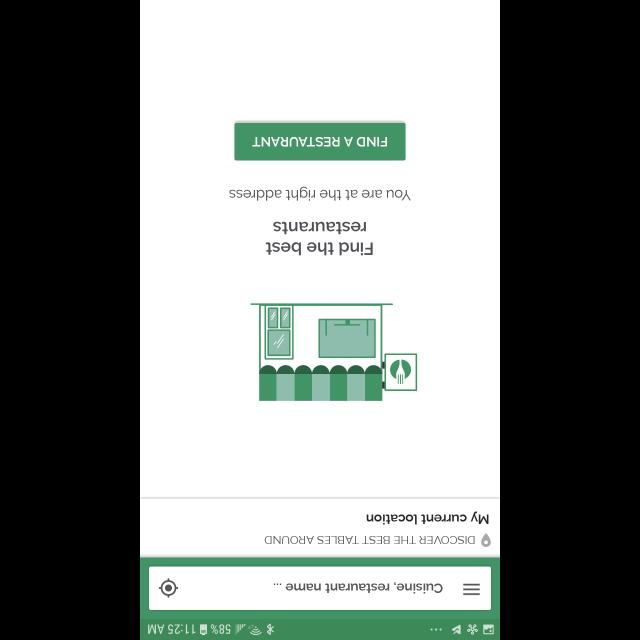icon: (158, 578, 178, 598), (462, 583, 480, 595), (481, 533, 491, 547)
image: (250, 303, 418, 402)
input: (150, 566, 490, 610)
text: (266, 221, 372, 255), (229, 186, 411, 202), (274, 582, 442, 594), (264, 536, 474, 544), (366, 512, 488, 524)
textbutton: (234, 123, 406, 161)
uppertaskbar: (140, 618, 500, 640)
